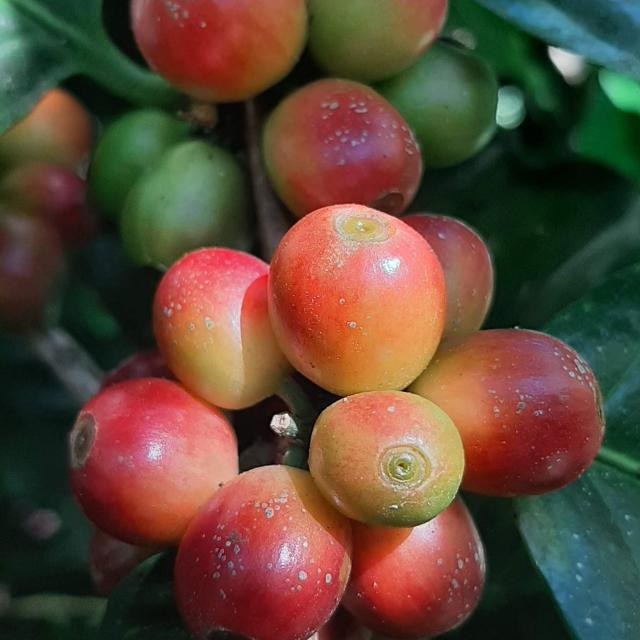green: (119, 139, 252, 270), (378, 42, 499, 167), (89, 108, 192, 216)
red: (408, 330, 607, 498), (174, 466, 350, 640), (68, 379, 237, 548), (342, 500, 486, 640)
yellow: (268, 204, 447, 396), (152, 248, 291, 410), (263, 78, 423, 217), (309, 391, 465, 529), (131, 0, 308, 102), (308, 0, 447, 82), (403, 214, 494, 339)
